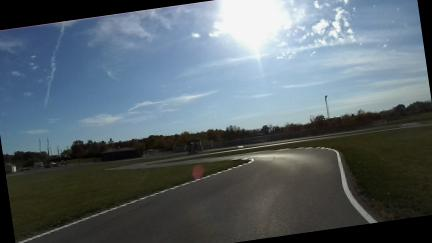Grass: (202, 126, 431, 219), (6, 159, 245, 240), (387, 113, 431, 125), (67, 158, 101, 165), (417, 120, 431, 124)
Lane: (26, 148, 375, 242)
